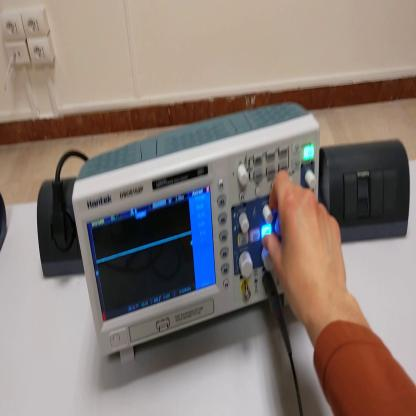hand: (262, 174, 350, 318)
oscilloscope: (70, 95, 320, 365)
socket: (38, 178, 84, 278), (2, 193, 8, 253)
